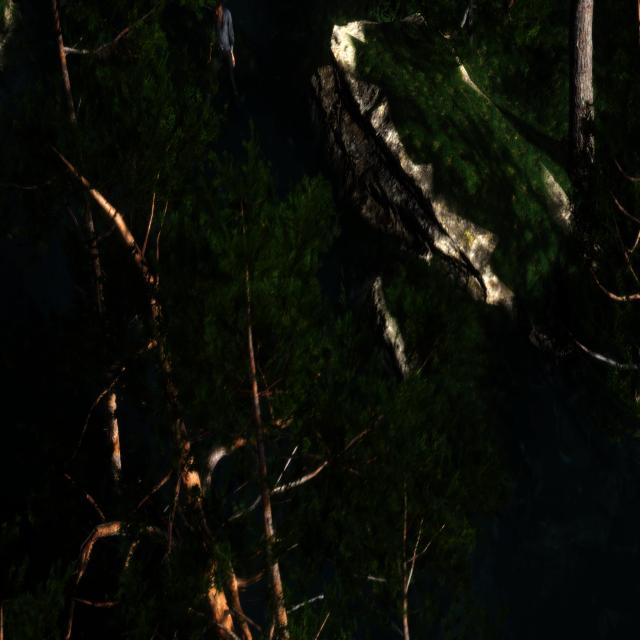Human: (204, 0, 241, 111)
